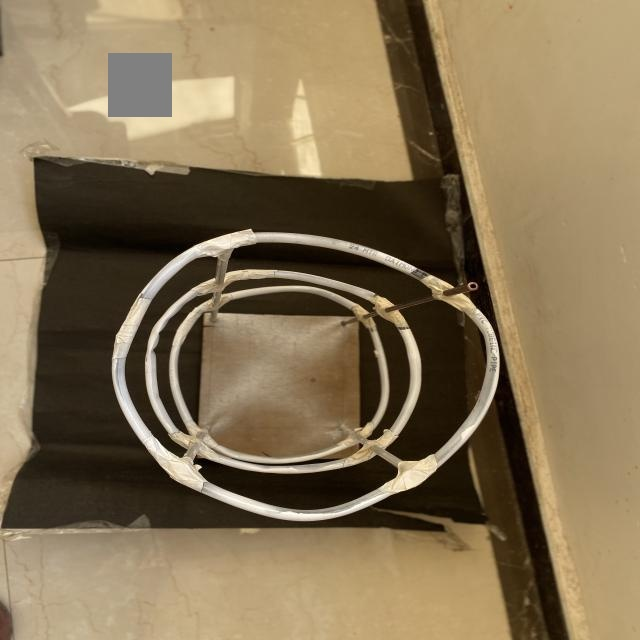silo: (112, 233, 506, 522)
